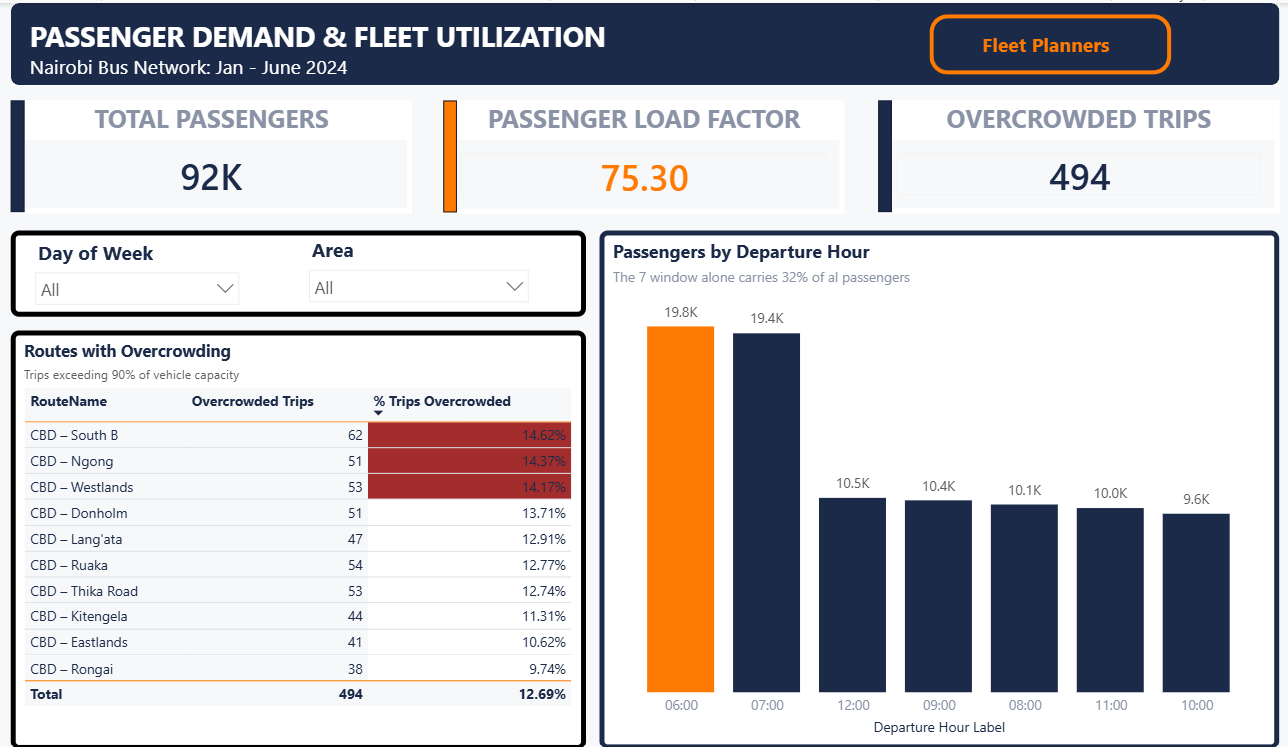

The dashboard page shown, as its layout file describes it:
{"tool":"powerbi","page":{"name":"Demand & Utilization","canvas":[1280,720],"ordinal":1},"visuals":[{"type":"group","id":"g1","title":"Group 1","box":[32.1,0,1224.6,79.4],"z":0},{"type":"shape","box":[32.1,0,1224.6,79.4],"z":0,"group":"g1"},{"type":"cardVisual","title":"TOTAL PASSENGERS","fields":{"Data":["Passengers.Total Passengers"]},"box":[32.1,95.2,387.4,107.7],"z":0,"group":"g2"},{"type":"cardVisual","title":"PASSENGER LOAD FACTOR","fields":{"Data":["Passengers.Passenger Load Factor"]},"box":[449.8,95.2,387.4,108],"z":0,"group":"g3"},{"type":"cardVisual","title":"OVERCROWDED TRIPS","fields":{"Data":["Passengers.Overcrowded Trips"]},"box":[869.3,95.2,387.4,107.7],"z":0,"group":"g4"},{"type":"textbox","box":[45,8.3,613.2,69.7],"z":1000,"group":"g1"},{"type":"group","id":"g2","title":"Group 2","box":[32.1,94.5,387.4,107.7],"z":1000},{"type":"shape","box":[32.1,94.5,13.2,107.7],"z":1000,"group":"g2"},{"type":"shape","box":[449.8,94.5,13.2,108],"z":1000,"group":"g3"},{"type":"shape","box":[869.3,94.5,13.2,107.7],"z":1000,"group":"g4"},{"type":"shape","box":[918.6,11.3,233.3,58.1],"z":2000,"group":"g1"},{"type":"group","id":"g3","title":"Group 2","box":[449.8,94.5,387.4,107.7],"z":2000},{"type":"textbox","box":[940.8,22.7,181.4,35.9],"z":3000,"group":"g1"},{"type":"group","id":"g4","title":"Group 2","box":[869.3,94.5,387.4,107.7],"z":3000},{"type":"clusteredColumnChart","title":"Passengers by Departure Hour","fields":{"Category":["Trips.Departure Hour Label"],"Y":["Passengers.Total Passengers"]},"box":[612.3,219.2,667.1,500.8],"z":4000},{"type":"tableEx","title":"Routes with Overcrowding","fields":{"Values":["Routes.RouteName","Passengers.Overcrowded Trips","Passengers.% Trips Overcrowded"]},"box":[32.1,315.6,555.6,404.4],"z":5000},{"type":"shape","box":[32.1,219.2,555.6,83.2],"z":6000},{"type":"slicer","fields":{"Values":["Calendar.Weekday"]},"box":[45.4,223,217.3,75.6],"z":6001},{"type":"slicer","fields":{"Values":["Routes.Area"]},"box":[309.9,221.1,232.4,79.4],"z":6002}]}

Visuals, with their boxes on the page's 1280x720 design canvas (x1, y1, x2, y2). These are canvas units, not pixel positions in the 1288x747 screenshot, which may show the page scaled, cropped or inside an application window:
"Group 1" group: detection(32, 0, 1257, 79)
shape: detection(32, 0, 1257, 79)
"TOTAL PASSENGERS" cardVisual: detection(32, 95, 420, 203)
"PASSENGER LOAD FACTOR" cardVisual: detection(450, 95, 837, 203)
"OVERCROWDED TRIPS" cardVisual: detection(869, 95, 1257, 203)
textbox: detection(45, 8, 658, 78)
"Group 2" group: detection(32, 94, 420, 202)
shape: detection(32, 94, 45, 202)
shape: detection(450, 94, 463, 202)
shape: detection(869, 94, 882, 202)
shape: detection(919, 11, 1152, 69)
"Group 2" group: detection(450, 94, 837, 202)
textbox: detection(941, 23, 1122, 59)
"Group 2" group: detection(869, 94, 1257, 202)
"Passengers by Departure Hour" clusteredColumnChart: detection(612, 219, 1279, 720)
"Routes with Overcrowding" tableEx: detection(32, 316, 588, 720)
shape: detection(32, 219, 588, 302)
slicer - Calendar.Weekday: detection(45, 223, 263, 299)
slicer - Routes.Area: detection(310, 221, 542, 300)
